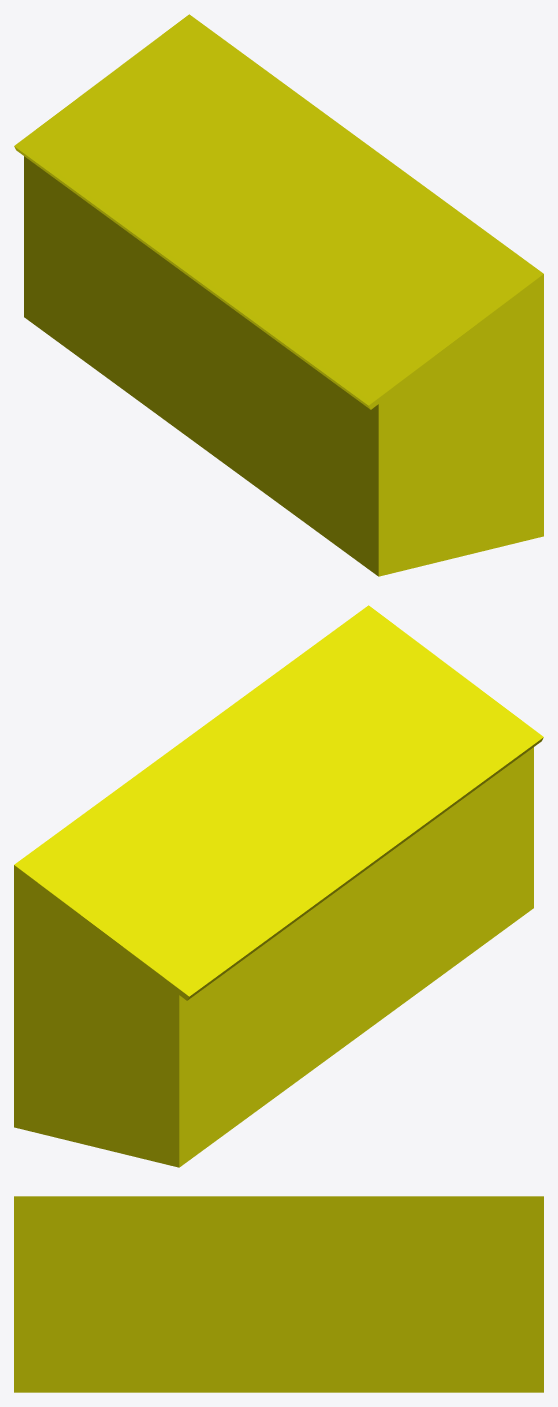
The model's file is Background_Wall_Roof_01.fbx.
3 views of the same model, one above another, from view 1: azimuth 30°, elevation 25°; view 2: azimuth 150°, elevation 25°; view 3: azimuth 270°, elevation 25° (orthographic). The views are drawn at different scales.
Visible parts, largest first — view 1: Background_Wall_Roof_01; view 2: Background_Wall_Roof_01; view 3: Background_Wall_Roof_01.
Boxes of the visible parts, x1,y1,x2,y2 form: Background_Wall_Roof_01: (14, 14, 543, 576); Background_Wall_Roof_01: (14, 605, 543, 1167); Background_Wall_Roof_01: (14, 1196, 543, 1392).
Bounding box in the file's own units: 647 × 926 × 2266.
